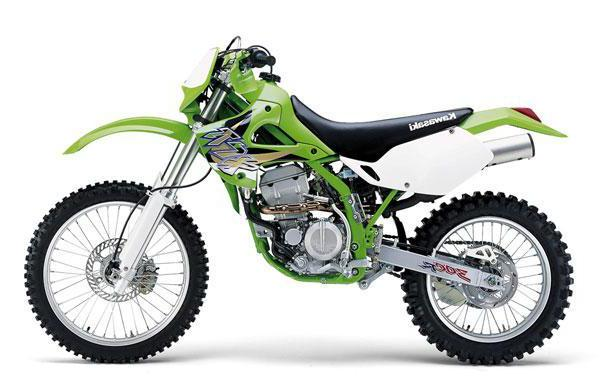motorcycle: (13, 23, 589, 374)
